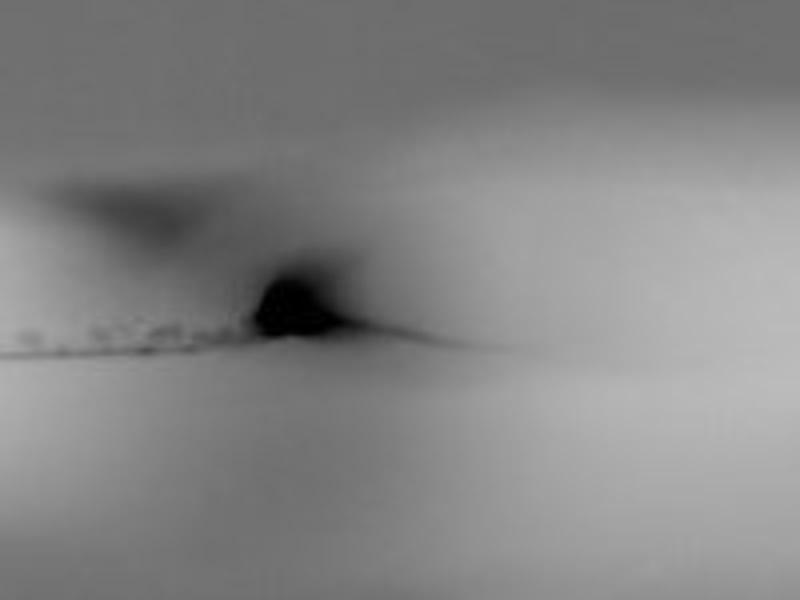defect: (252, 276, 365, 340)
